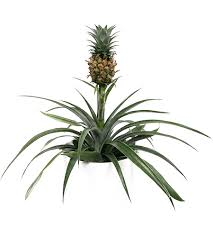pineapple: (87, 56, 114, 84)
